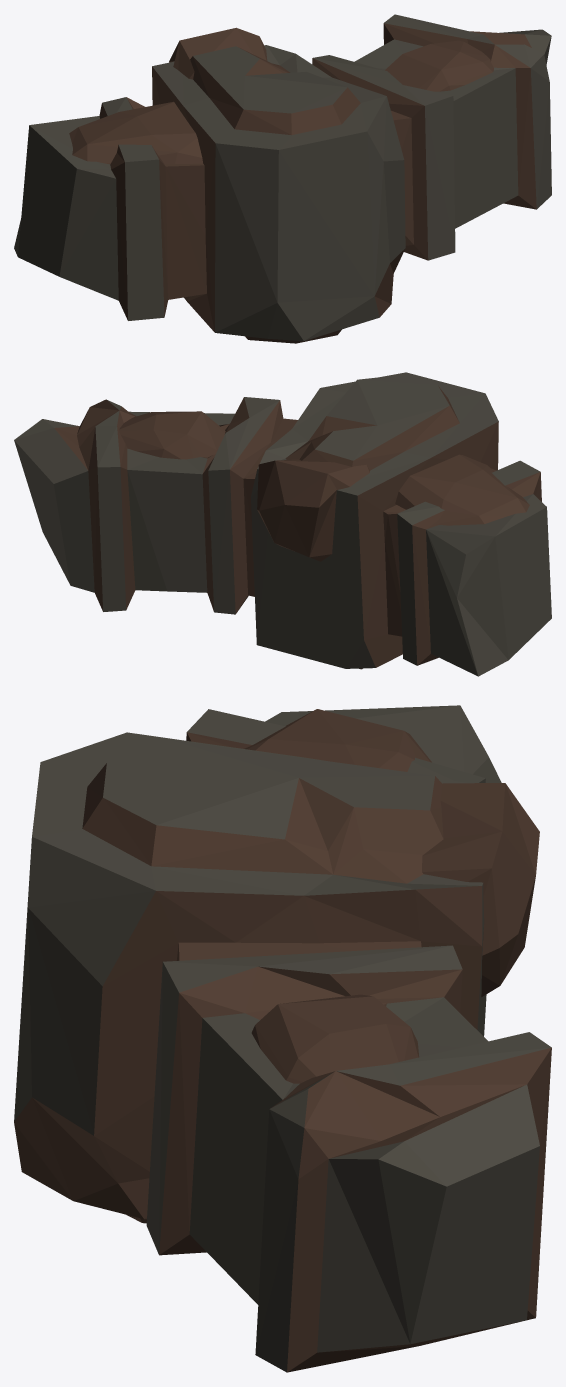
File: synty-prop-pillar-arch-broken-moss-02.gltf
3 renders of one model, top to bottom at view 1: azimuth 30°, elevation 25°; view 2: azimuth 150°, elevation 25°; view 3: azimuth 270°, elevation 25°, orthographic. The views are drawn at different scales.
Parts seen in each view (by area): view 1: SM_Prop_Pillar_Arch_Broken_Moss_02; view 2: SM_Prop_Pillar_Arch_Broken_Moss_02; view 3: SM_Prop_Pillar_Arch_Broken_Moss_02.
Boxes of the visible parts, x1=… form: SM_Prop_Pillar_Arch_Broken_Moss_02: x1=14, y1=14, x2=551, y2=343; SM_Prop_Pillar_Arch_Broken_Moss_02: x1=14, y1=372, x2=551, y2=676; SM_Prop_Pillar_Arch_Broken_Moss_02: x1=14, y1=705, x2=551, y2=1372.
Bounding box in the file's own units: 1.41 × 0.6014 × 0.7139.
Materials: 1 (1 with a texture image).
